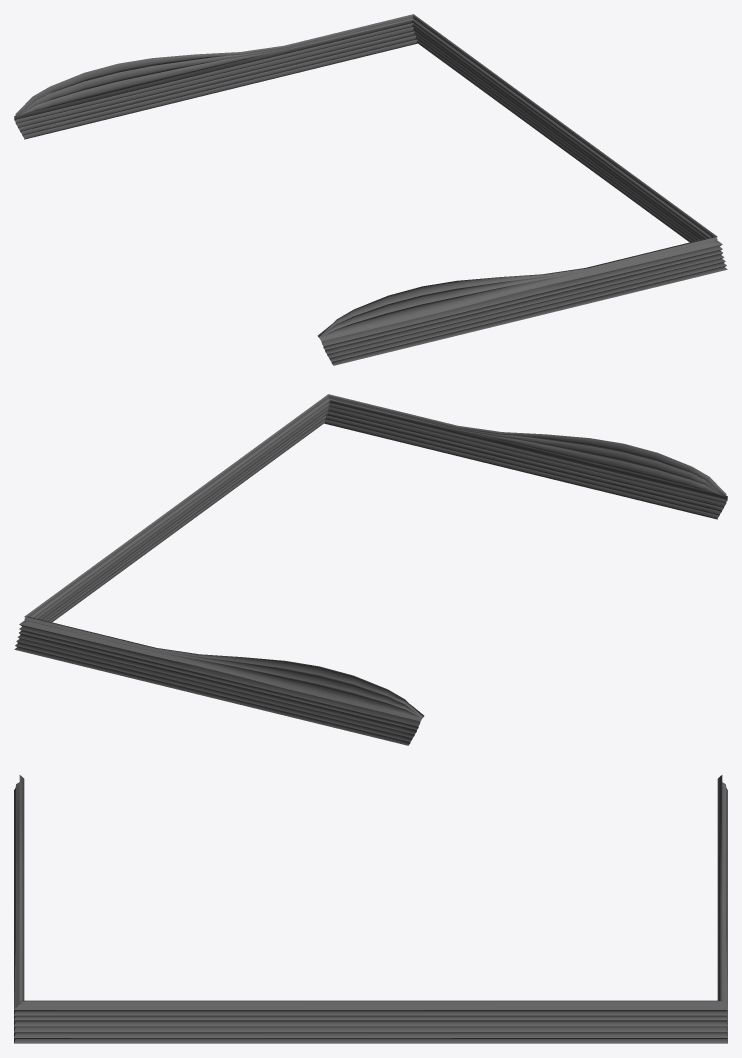
File: Book_5_book_5_1.obj
3 renders of one model, top to bottom at view 1: azimuth 30°, elevation 25°; view 2: azimuth 150°, elevation 25°; view 3: azimuth 270°, elevation 25°, orthographic. The views are drawn at different scales.
Size of the model in its own units: 0.2729 by 0.0356 by 0.36.
Materials: 1 (1 with a texture image).
